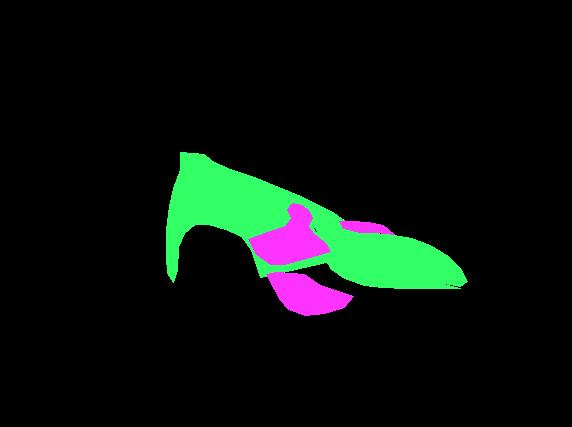Broken part: (166, 152, 352, 282), (315, 226, 467, 286), (325, 255, 460, 288)
Dent: (248, 203, 330, 264), (266, 272, 353, 315), (339, 221, 394, 234)
